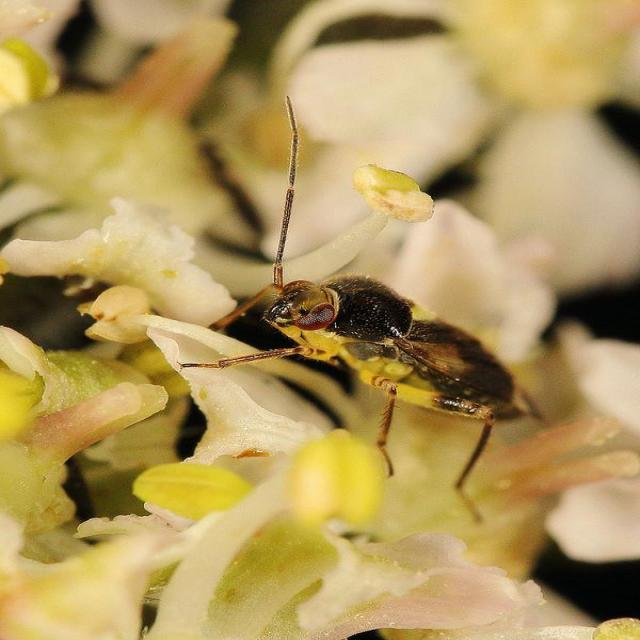Miridae-Adult-: (167, 90, 564, 497)
